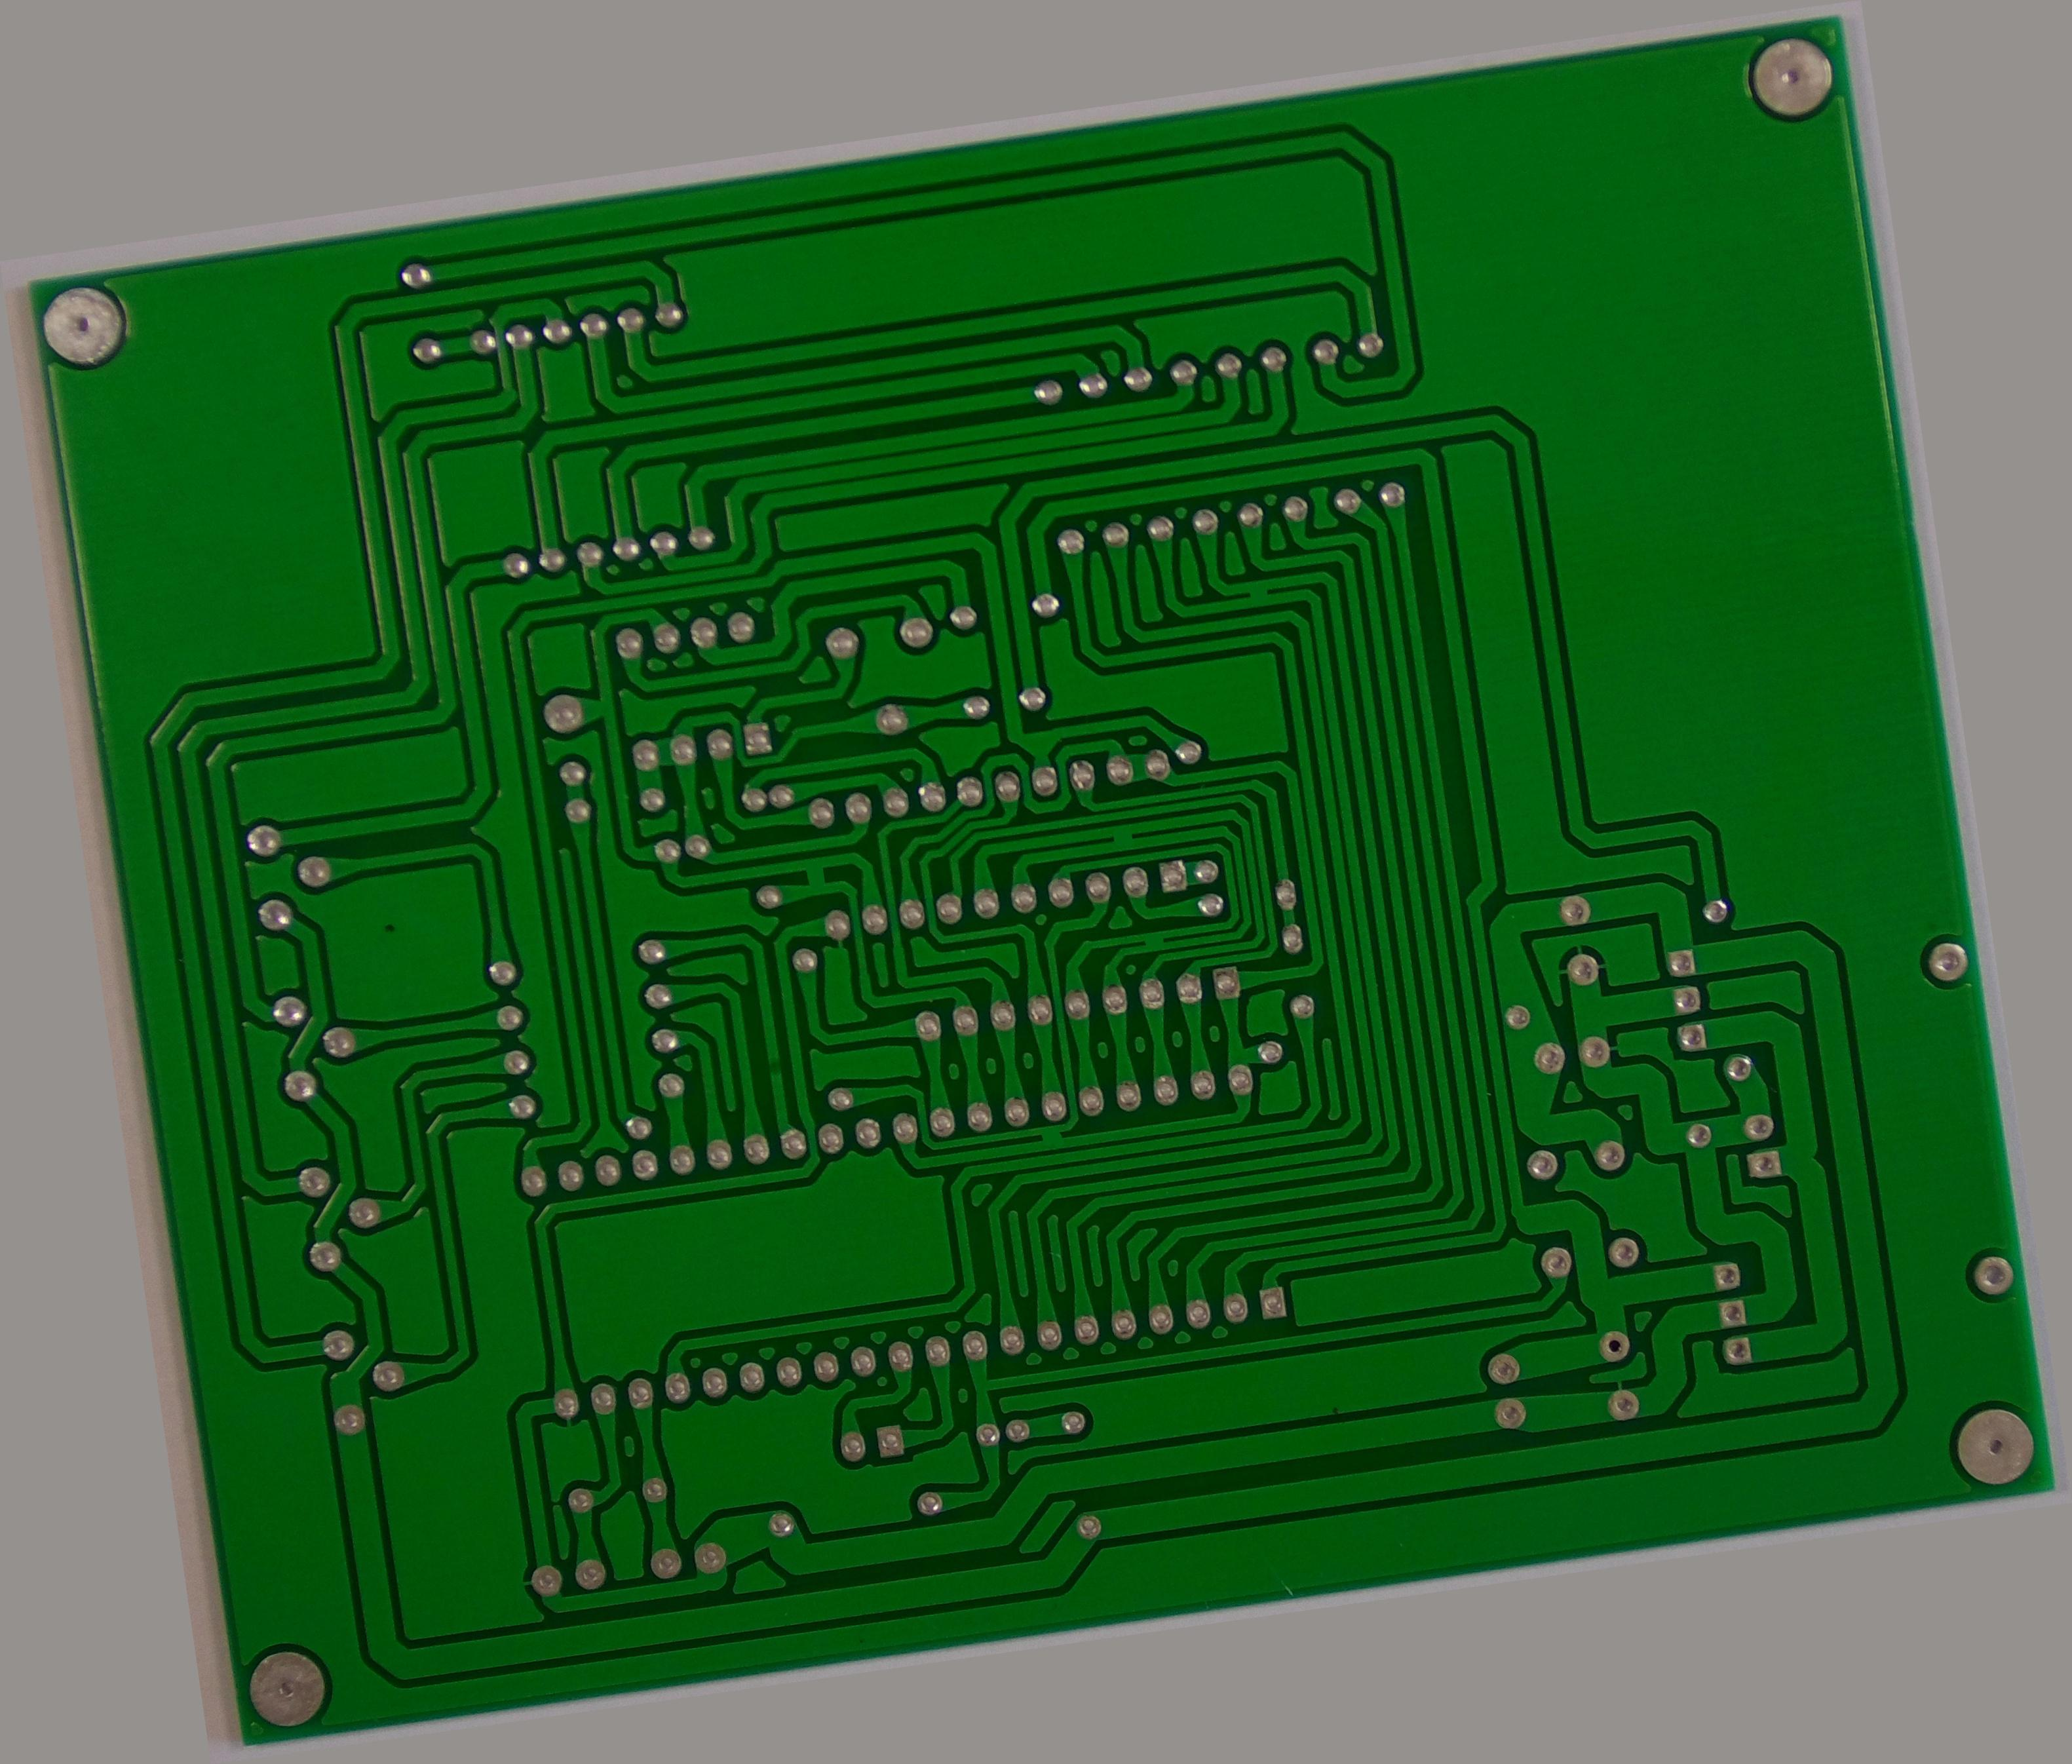short: (789, 847, 840, 901), (1234, 570, 1281, 612), (1129, 920, 1178, 961), (1097, 819, 1143, 856), (1031, 1115, 1073, 1153)
